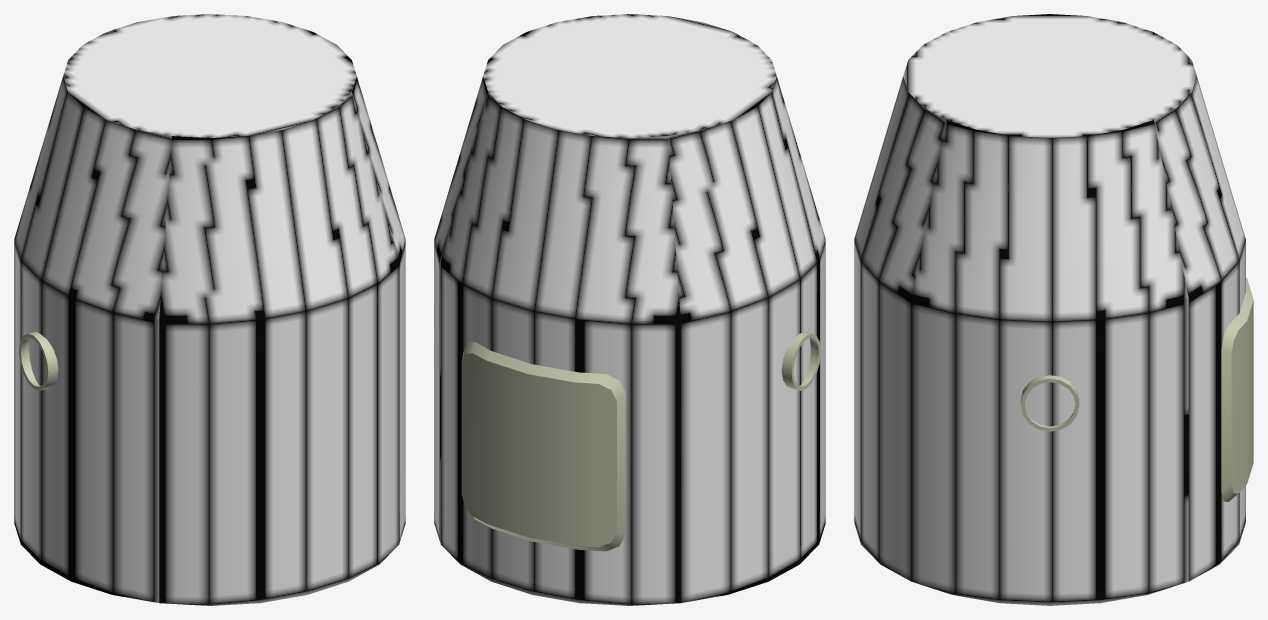
The model's file is vega_crew_s1_1_1_interior.obj.
3 renders of one model, left to right at view 1: azimuth 30°, elevation 25°; view 2: azimuth 150°, elevation 25°; view 3: azimuth 270°, elevation 25°, orthographic.
Parts seen in each view (by area): view 1: vega_crew_s1_1_1_interior, vega_crew_s1_1_1_interior_mask; view 2: vega_crew_s1_1_1_interior, vega_crew_s1_1_1_interior_mask; view 3: vega_crew_s1_1_1_interior, vega_crew_s1_1_1_interior_mask.
Part boxes in pixels (x1,y1,x2,y2): vega_crew_s1_1_1_interior: [14, 14, 405, 605]; vega_crew_s1_1_1_interior_mask: [19, 331, 58, 390]; vega_crew_s1_1_1_interior: [434, 14, 825, 605]; vega_crew_s1_1_1_interior_mask: [461, 331, 820, 551]; vega_crew_s1_1_1_interior: [854, 14, 1245, 605]; vega_crew_s1_1_1_interior_mask: [1020, 277, 1253, 501].
Bounding box in the file's own units: 1.3 × 1.58 × 1.27.
Materials: 2 (1 with a texture image).
